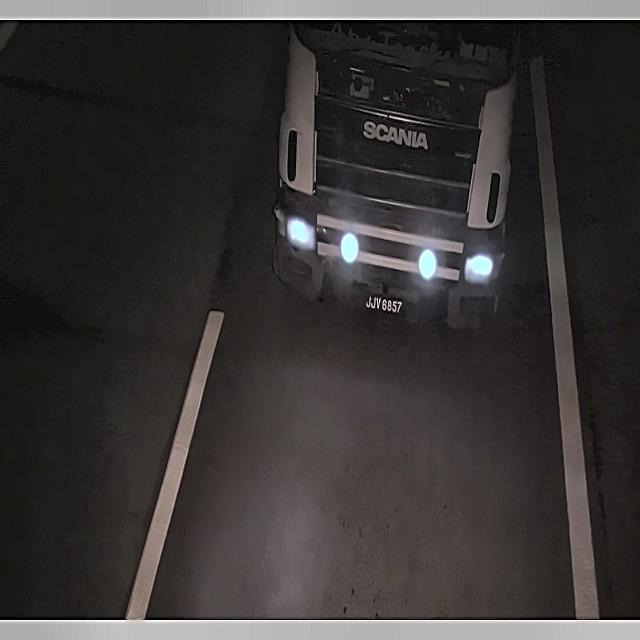car: (362, 288, 408, 320)
